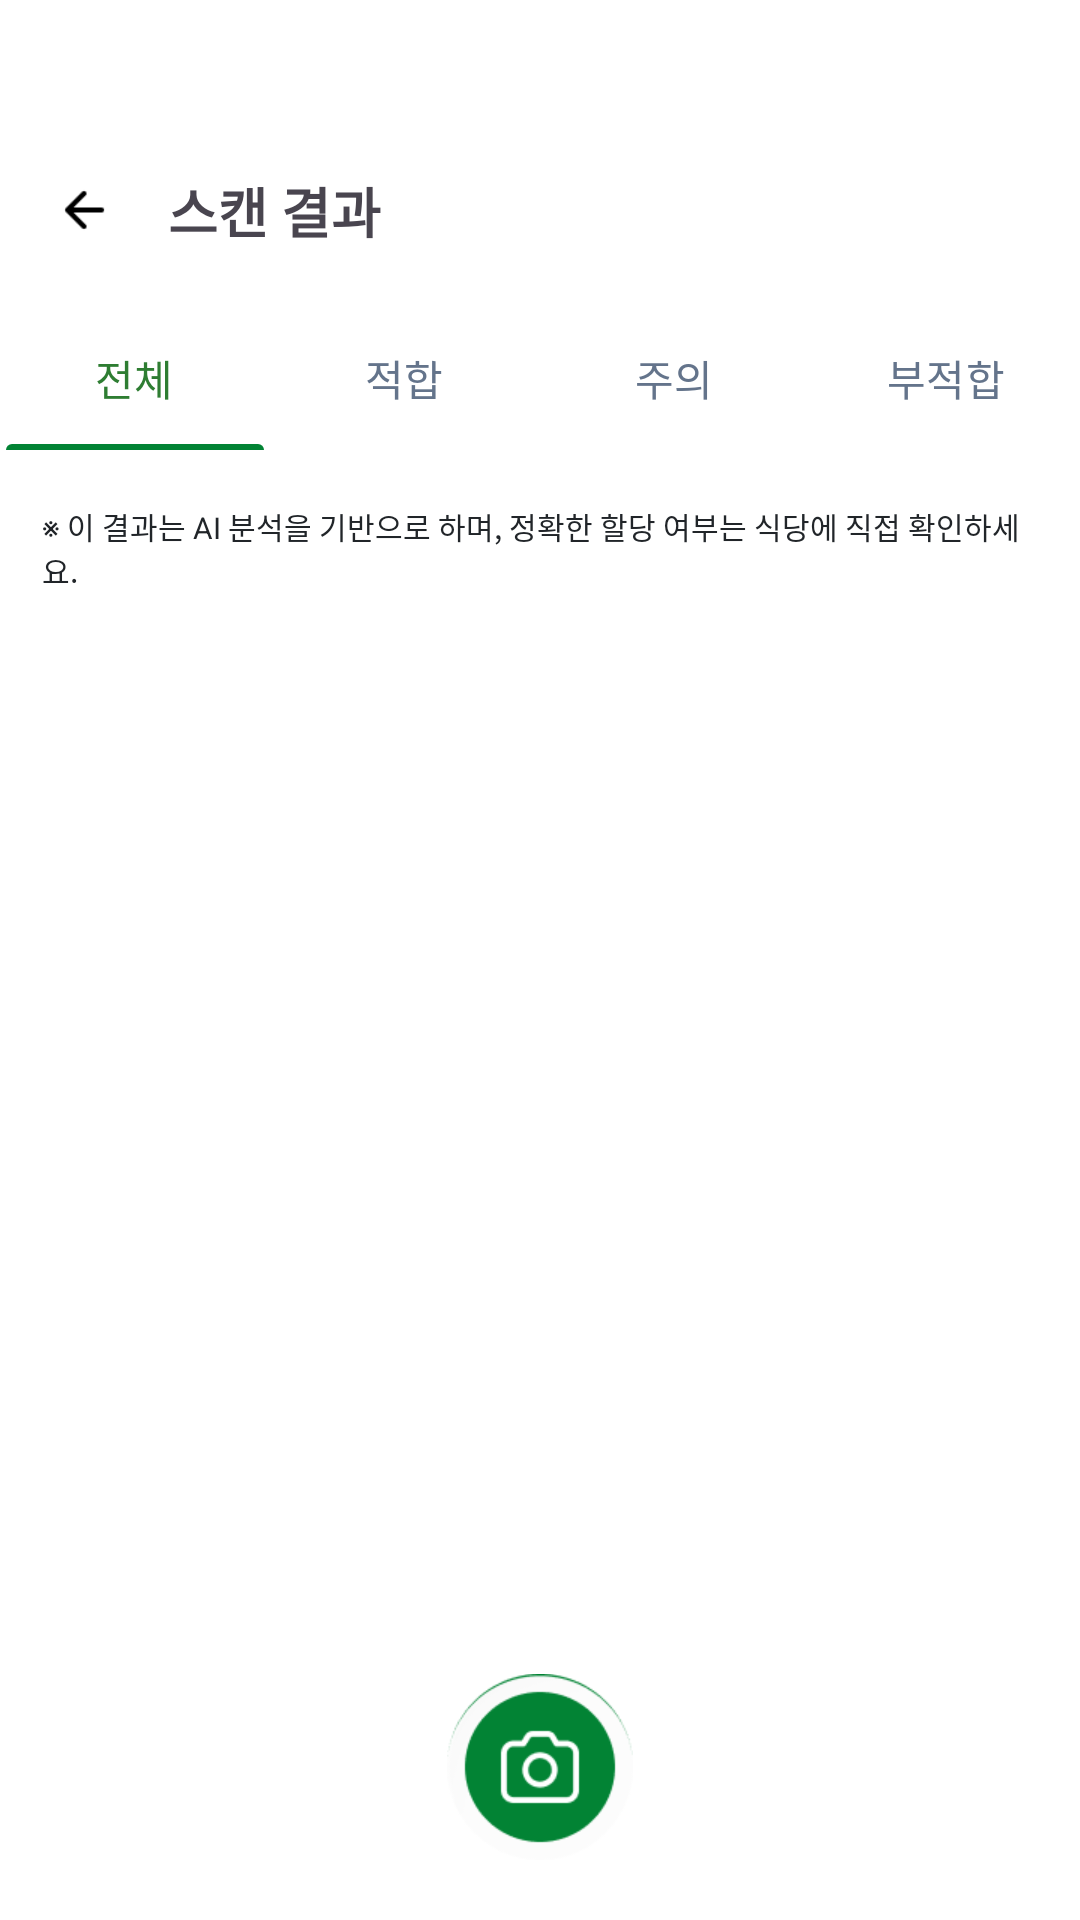

Icon click points for this 1080px x 1920px phone screenshot, format [x,y]:
arrow back: [84,210]
camera: [540,1758]
